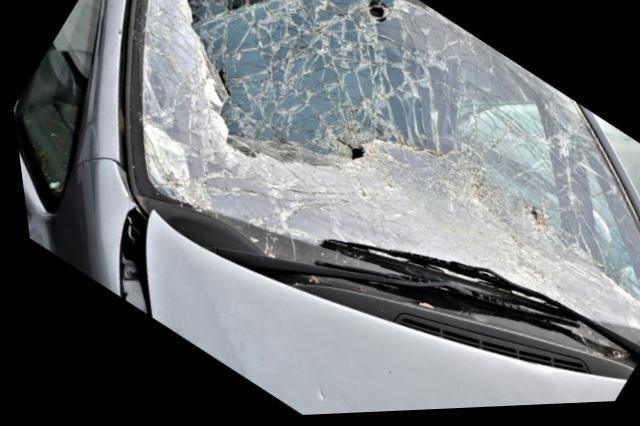glass shatter: (126, 0, 640, 364)
